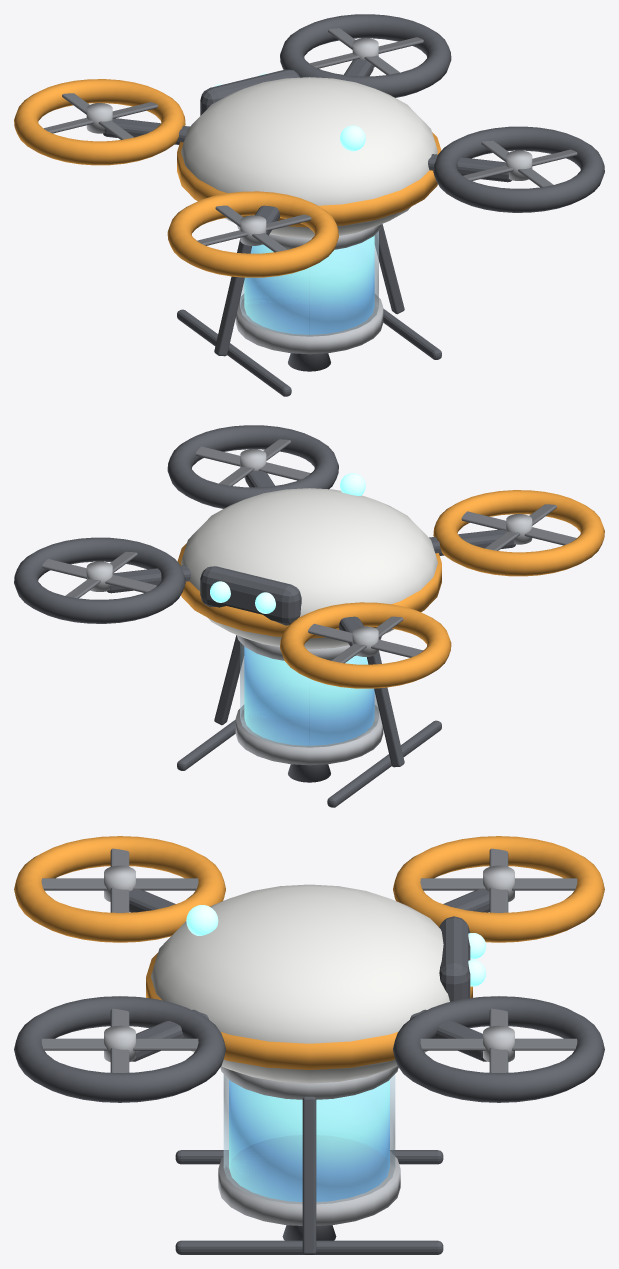
File: drone.glb
The picture shows the model from 3 angles, top to bottom: view 1: azimuth 30°, elevation 25°; view 2: azimuth 150°, elevation 25°; view 3: azimuth 270°, elevation 25°; orthographic projection. The views are drawn at different scales.
Parts seen in each view (by area): view 1: Body, Tank, WaterMesh, Duct0, Duct2, Duct1, Duct3, Band, TankCapBot, Skid1, Leg1, Visor (+18 smaller); view 2: Body, Tank, WaterMesh, Duct1, Duct3, Duct0, Duct2, TankCapBot, Visor, Band, Skid1, Leg1 (+17 smaller); view 3: Body, Tank, WaterMesh, Duct2, Duct3, Duct1, Duct0, Band, TankCapBot, Skid-1, TankCapTop, Leg-1 (+20 smaller).
Part boxes in pixels (<box>): Body: <box>181,77,437,238</box>; Tank: <box>240,231,378,336</box>; WaterMesh: <box>244,235,374,334</box>; Duct0: <box>14,79,185,165</box>; Duct2: <box>433,126,604,212</box>; Duct1: <box>167,191,338,277</box>; Duct3: <box>280,14,451,97</box>; Band: <box>177,132,441,227</box>; TankCapBot: <box>235,294,383,354</box>; Skid1: <box>177,309,291,396</box>; Leg1: <box>214,239,251,356</box>; Visor: <box>200,69,299,115</box>; Body: <box>181,488,437,649</box>; Tank: <box>240,642,378,747</box>; WaterMesh: <box>244,646,374,745</box>; Duct1: <box>433,490,604,576</box>; Duct3: <box>14,537,185,623</box>; Duct0: <box>280,602,451,688</box>; Duct2: <box>167,425,338,508</box>; TankCapBot: <box>235,705,383,765</box>; Visor: <box>200,566,301,625</box>; Band: <box>177,543,441,638</box>; Skid1: <box>327,720,441,807</box>; Leg1: <box>367,650,404,767</box>; Body: <box>151,884,449,1083</box>; Tank: <box>223,1074,395,1203</box>; WaterMesh: <box>229,1080,389,1201</box>; Duct2: <box>14,996,225,1102</box>; Duct3: <box>393,996,604,1102</box>; Duct1: <box>14,836,225,942</box>; Duct0: <box>393,836,604,942</box>; Band: <box>146,953,472,1069</box>; TankCapBot: <box>218,1151,400,1225</box>; Skid-1: <box>175,1240,443,1254</box>; TankCapTop: <box>220,1066,398,1099</box>; Leg-1: <box>302,1096,316,1254</box>.
Bounding box in the file's own units: 1.1 × 0.68 × 1.1.
